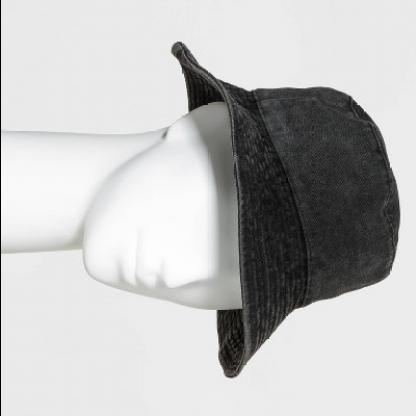hat: (166, 37, 406, 385)
